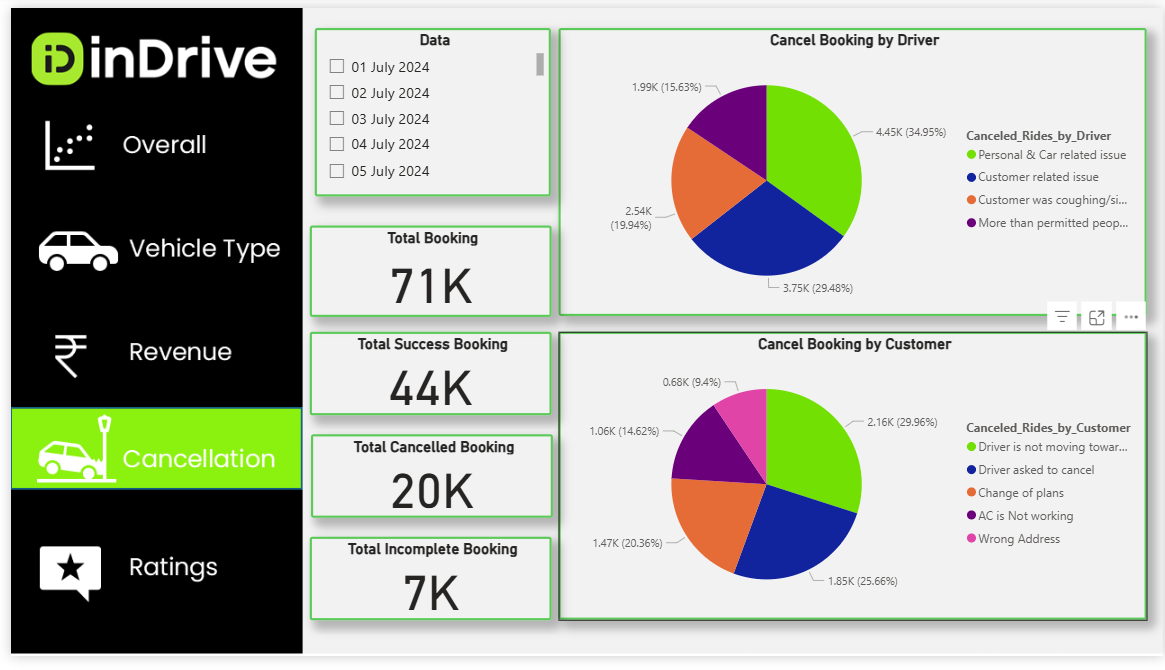

This screenshot's page, from the dashboard's own definition file:
{"tool":"powerbi","page":{"name":"Cancellation","canvas":[1280,720],"ordinal":4},"visuals":[{"type":"pieChart","title":"Cancel Booking by Driver","fields":{"Category":["Bengaluru_inDrive_Booking_Data_01.Canceled_Rides_by_Driver"],"Y":["CountNonNull(Bengaluru_inDrive_Booking_Data_01.Canceled_Rides_by_Driver)"]},"box":[608.8,22.5,653.8,320],"z":0},{"type":"pieChart","title":"Cancel Booking by Customer","fields":{"Category":["Bengaluru_inDrive_Booking_Data_01.Canceled_Rides_by_Customer"],"Y":["CountNonNull(Bengaluru_inDrive_Booking_Data_01.Canceled_Rides_by_Customer)"]},"box":[608.8,360,653.8,320],"z":1000},{"type":"card","title":"Total Booking","fields":{"Values":["CountNonNull(Bengaluru_inDrive_Booking_Data_01.Booking_ID)"]},"box":[332.5,241.2,268.8,101.2],"z":2000},{"type":"card","title":"Total Cancelled Booking","fields":{"Values":["CountNonNull(Bengaluru_inDrive_Booking_Data_01.Booking_ID)"]},"box":[333.8,473.8,268.8,92.5],"z":3000},{"type":"card","title":"Total Success Booking","fields":{"Values":["CountNonNull(Bengaluru_inDrive_Booking_Data_01.Booking_ID)"]},"box":[332.5,360,268.8,92.5],"z":4000},{"type":"card","title":"Total Incomplete Booking","fields":{"Values":["CountNonNull(Bengaluru_inDrive_Booking_Data_01.Booking_ID)"]},"box":[332.5,587.5,268.8,92.5],"z":5000},{"type":"slicer","title":"Data","fields":{"Values":["Bengaluru_inDrive_Booking_Data_01.Date"]},"box":[337.5,22.5,262.5,187.5],"z":6000},{"type":"actionButton","box":[0,218.7,321.3,92],"z":7000},{"type":"actionButton","box":[0,329.3,321.3,92],"z":8000},{"type":"actionButton","box":[0,577.3,321.3,92],"z":9000},{"type":"actionButton","box":[0,114.7,321.3,92],"z":10000}]}

Visuals, with their boxes in screenshot pixels (x1, y1, x2, y2), scaled from the page's 1280x720 canvas onto the 1165x670 screenshot:
"Cancel Booking by Driver" pieChart: [left=554, top=21, right=1149, bottom=319]
"Cancel Booking by Customer" pieChart: [left=554, top=335, right=1149, bottom=633]
"Total Booking" card: [left=303, top=224, right=547, bottom=319]
"Total Cancelled Booking" card: [left=304, top=441, right=548, bottom=527]
"Total Success Booking" card: [left=303, top=335, right=547, bottom=421]
"Total Incomplete Booking" card: [left=303, top=547, right=547, bottom=633]
"Data" slicer: [left=307, top=21, right=546, bottom=195]
actionButton: [left=0, top=204, right=292, bottom=289]
actionButton: [left=0, top=306, right=292, bottom=392]
actionButton: [left=0, top=537, right=292, bottom=623]
actionButton: [left=0, top=107, right=292, bottom=192]
